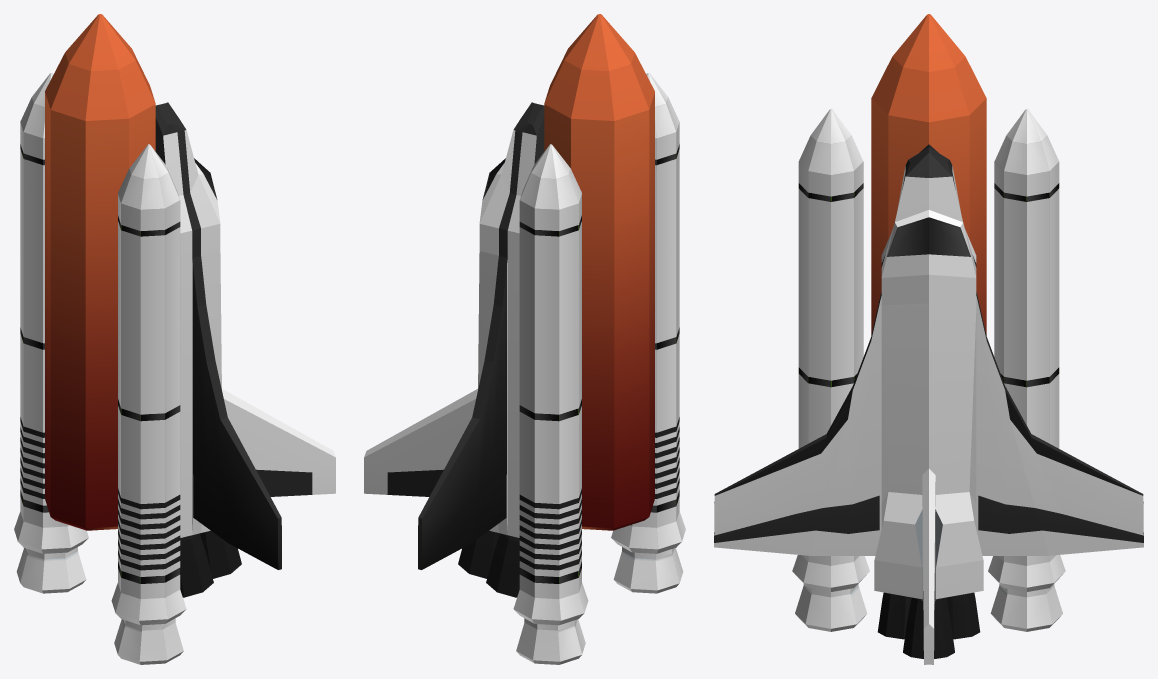
The picture shows the model from 3 angles, left to right: view 1: azimuth 30°, elevation 25°; view 2: azimuth 150°, elevation 25°; view 3: azimuth 270°, elevation 25°; orthographic projection.
Visible parts, largest first — view 1: ROCKET BODY_4, SPACE SHUTTLE_3, SIDE THRUSTER(LEFT)_0, SIDE THRUSTER (RIGHT)_5; view 2: ROCKET BODY_4, SPACE SHUTTLE_3, SIDE THRUSTER (RIGHT)_5, SIDE THRUSTER(LEFT)_0; view 3: SPACE SHUTTLE_3, SIDE THRUSTER(LEFT)_0, SIDE THRUSTER (RIGHT)_5, ROCKET BODY_4.
Part boxes in pixels (x1,y1,x2,y2): ROCKET BODY_4: [45, 14, 155, 530]; SPACE SHUTTLE_3: [155, 102, 335, 597]; SIDE THRUSTER(LEFT)_0: [111, 144, 186, 664]; SIDE THRUSTER (RIGHT)_5: [14, 73, 88, 593]; ROCKET BODY_4: [544, 14, 654, 530]; SPACE SHUTTLE_3: [364, 102, 544, 597]; SIDE THRUSTER (RIGHT)_5: [513, 144, 588, 664]; SIDE THRUSTER(LEFT)_0: [611, 73, 685, 593]; SPACE SHUTTLE_3: [714, 144, 1143, 664]; SIDE THRUSTER(LEFT)_0: [792, 109, 869, 631]; SIDE THRUSTER (RIGHT)_5: [988, 109, 1065, 631]; ROCKET BODY_4: [871, 14, 986, 334].
Bounding box in the file's own units: 7.52 × 15.28 × 9.87.
4 materials, 4 textured.
